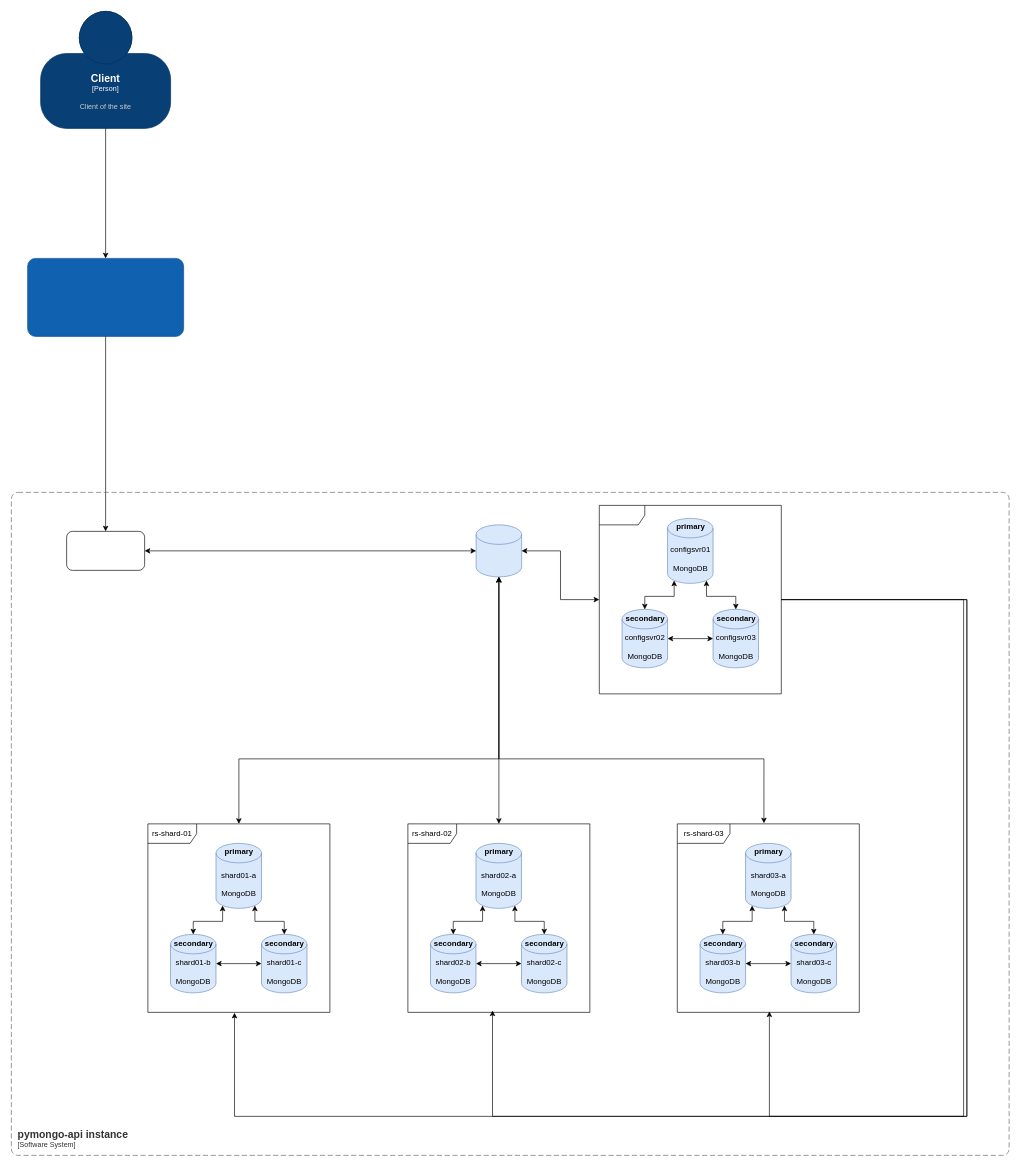
The diagram is 1020 pixels wide and 1167 high, and some of its shapes have lost their labels. Here are the shapes that lost their labels. From the top down, the centre of each, then its label:
At [105,297]: "WebSite/NGingx [Software System] Public Site".
At [105,550]: "pymongo-api".
At [498,550]: "router01 MongoDB".
At [690,599]: "Config Server".
